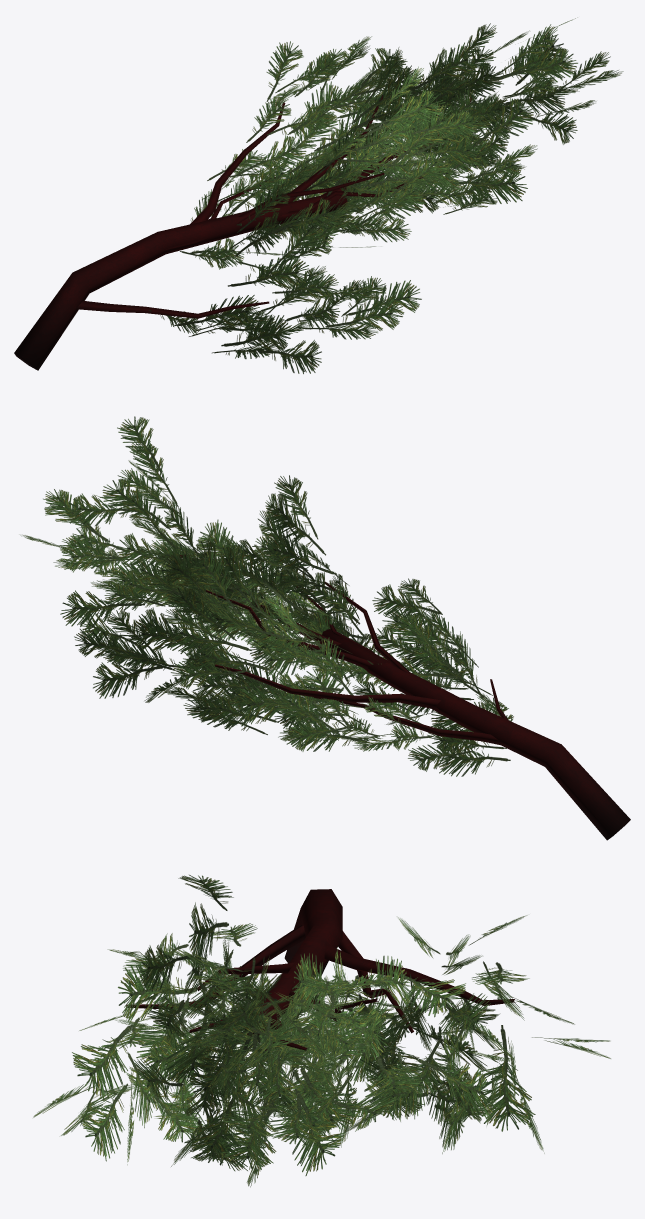
Rendered from krummholz_pine_v01_LOD2.glb.
3 renders of one model, top to bottom at view 1: azimuth 30°, elevation 25°; view 2: azimuth 150°, elevation 25°; view 3: azimuth 270°, elevation 25°, orthographic. The views are drawn at different scales.
Visible parts, largest first — view 1: krummholz_pine_v01_LOD2; view 2: krummholz_pine_v01_LOD2; view 3: krummholz_pine_v01_LOD2.
Boxes of the visible parts, <box> form: krummholz_pine_v01_LOD2: <box>14,18,623,373</box>; krummholz_pine_v01_LOD2: <box>22,416,630,840</box>; krummholz_pine_v01_LOD2: <box>33,875,610,1187</box>.
Bounding box in the file's own units: 3.99 × 1.83 × 2.34.
2 materials, 2 textured.
